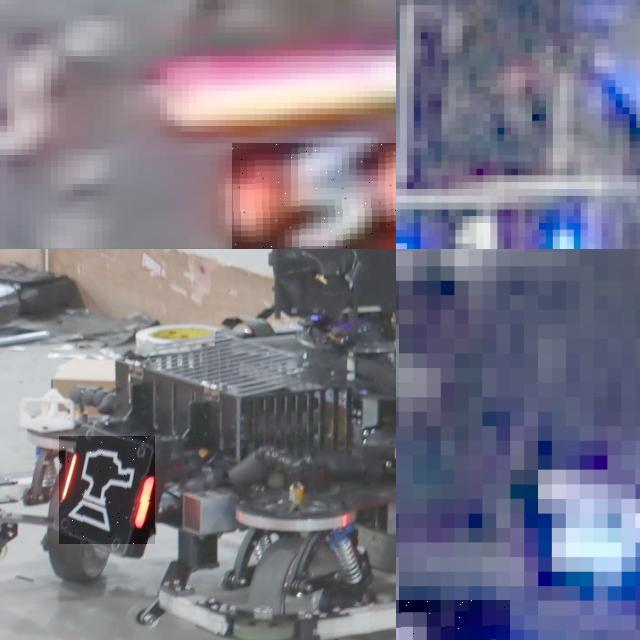B1: (396, 209, 574, 249)
R5: (232, 143, 396, 249)
Rs: (59, 436, 155, 544)
